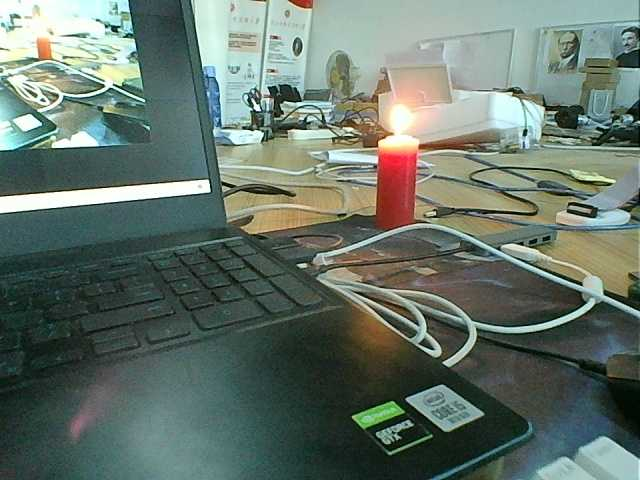candle: (374, 140, 422, 237)
fire: (383, 101, 416, 141)
